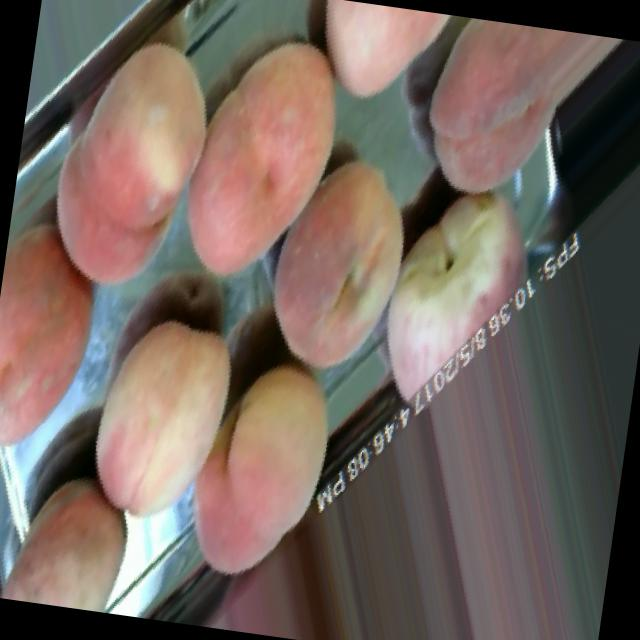Fruit: (9, 7, 230, 320), (150, 326, 375, 616), (170, 10, 383, 312), (392, 11, 640, 237), (229, 124, 418, 403), (74, 288, 269, 558), (0, 199, 130, 477), (0, 454, 156, 617), (286, 0, 476, 131)
